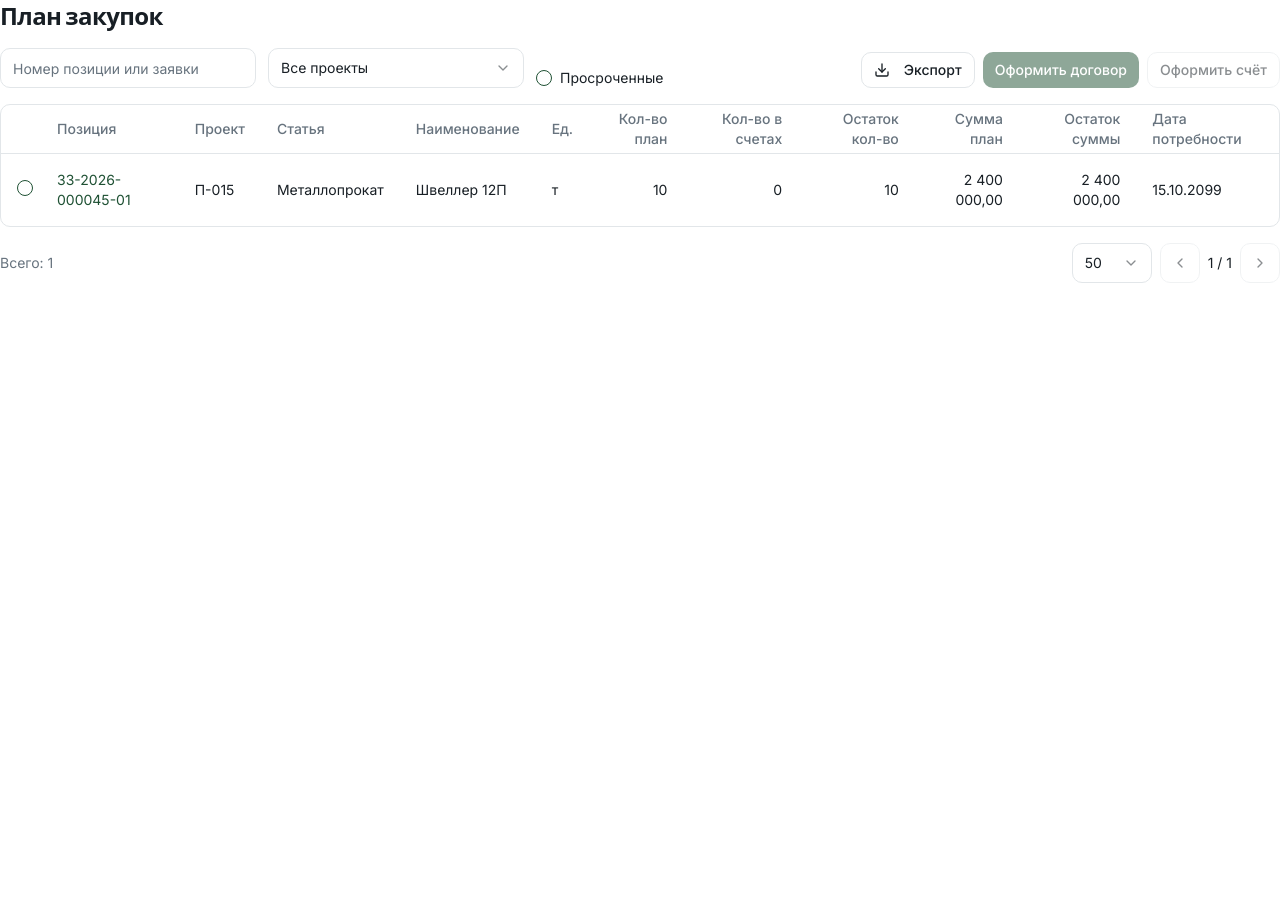
Scenario: PlanPage › мастер: проверка сервером и количество не больше остатка
Click the checkbox named "Отметить ЗЗ-2026-000045-01": (25, 188) [17,180,33,196]
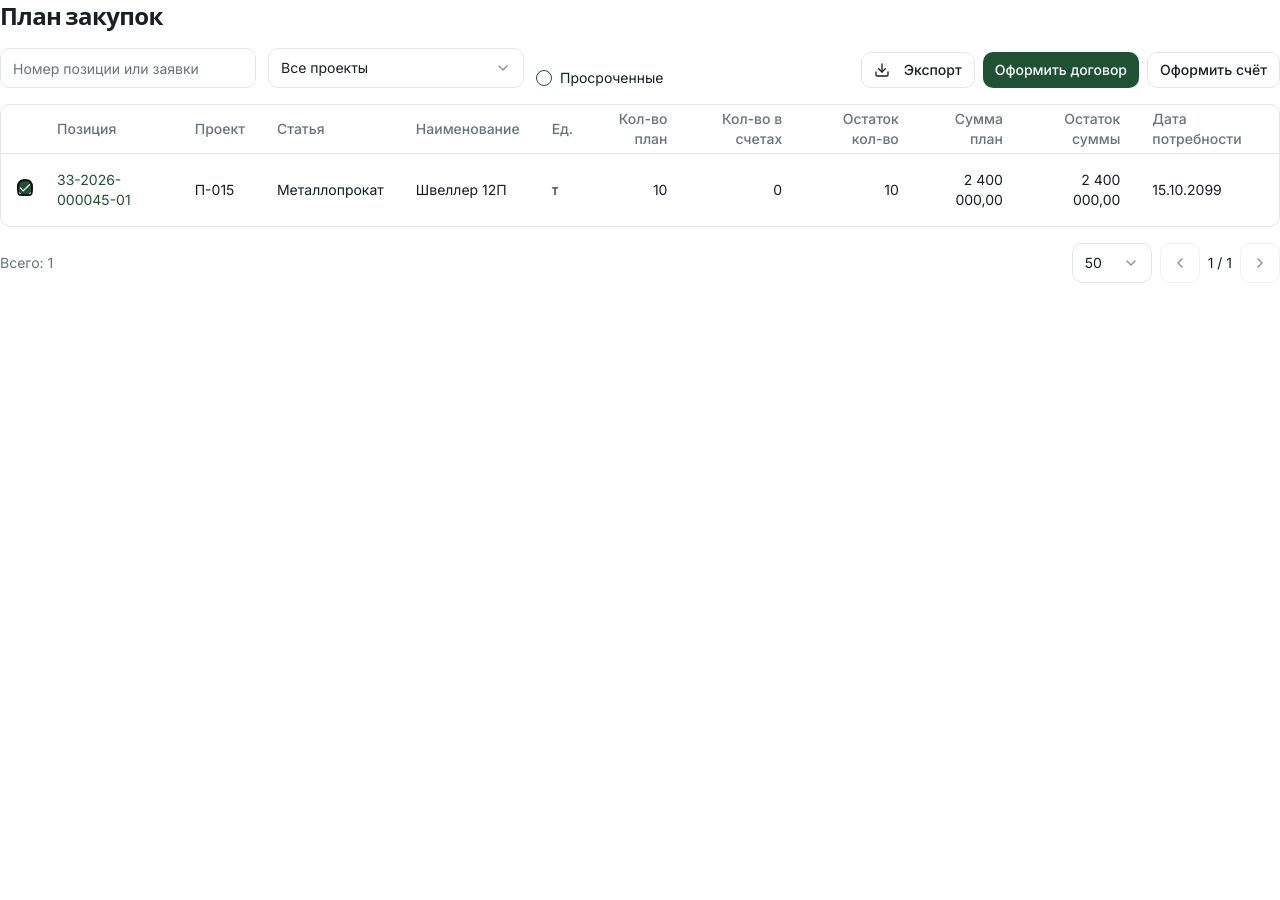
Click the button "Оформить договор": (1061, 70) [983,52,1139,88]
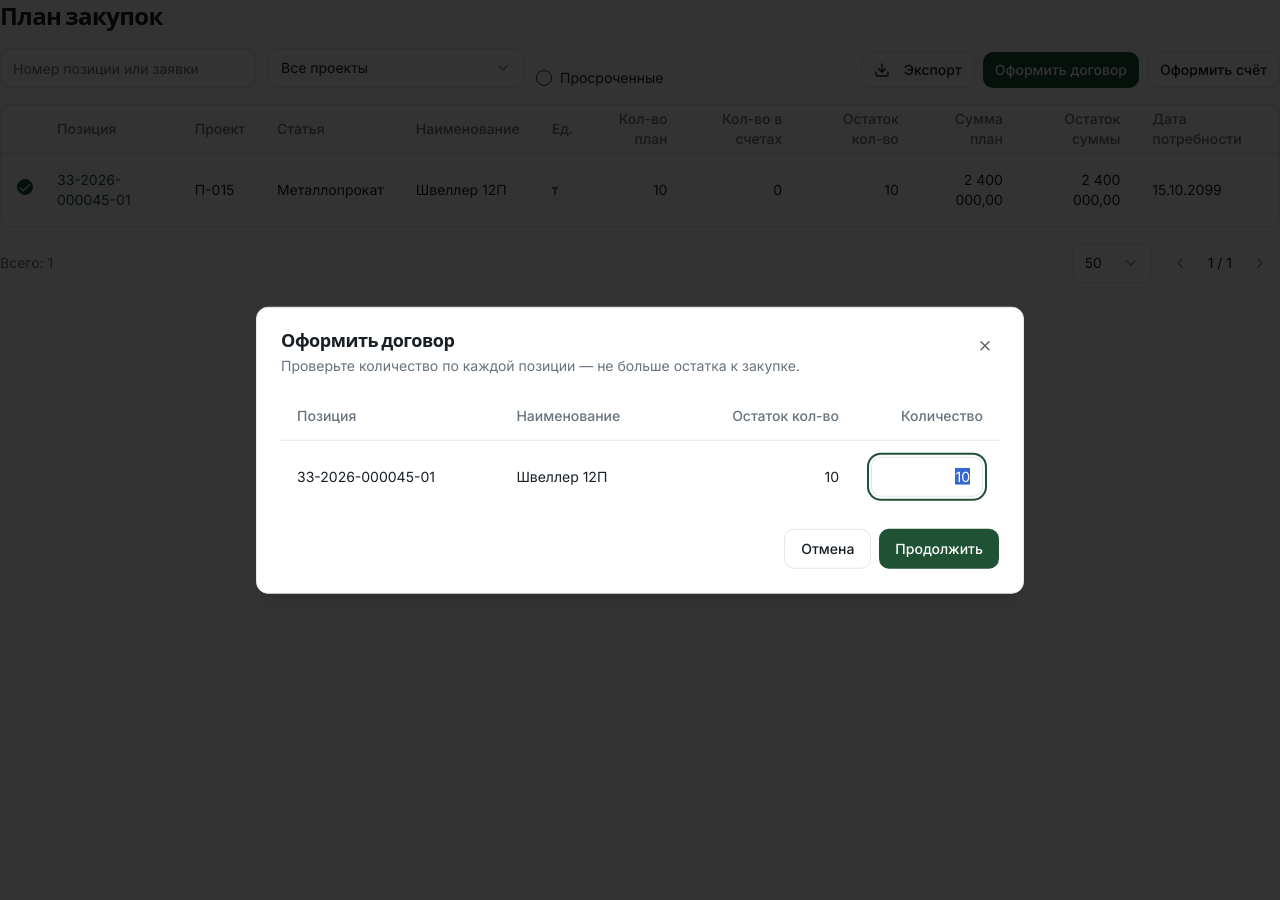
Expected: the field named "Количество ЗЗ-2026-000045-01" holds "10"
Clear the field named "Количество ЗЗ-2026-000045-01": (927, 476) [871,456,983,496]
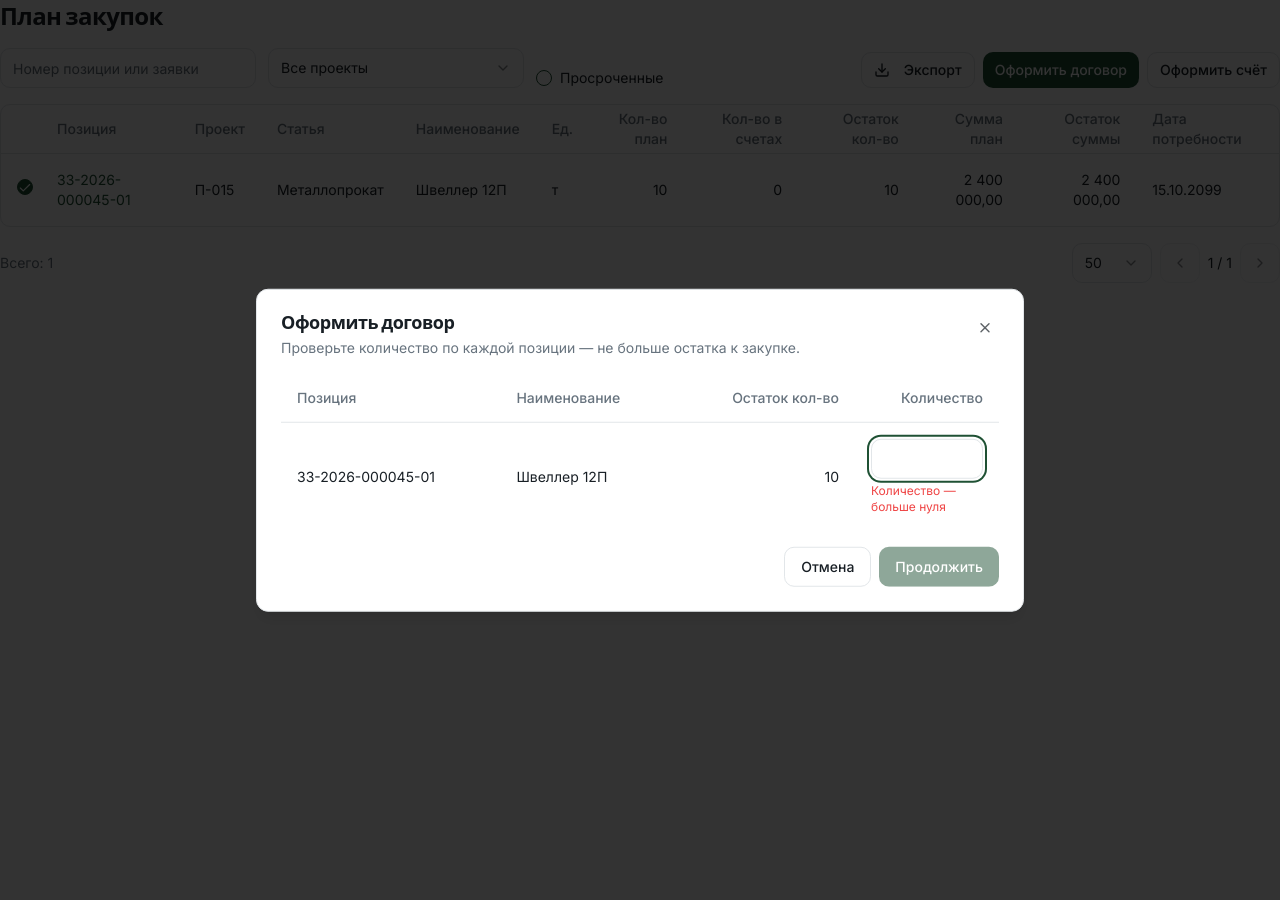
In the field named "Количество ЗЗ-2026-000045-01": (927, 458) [871,438,983,478], type "12"
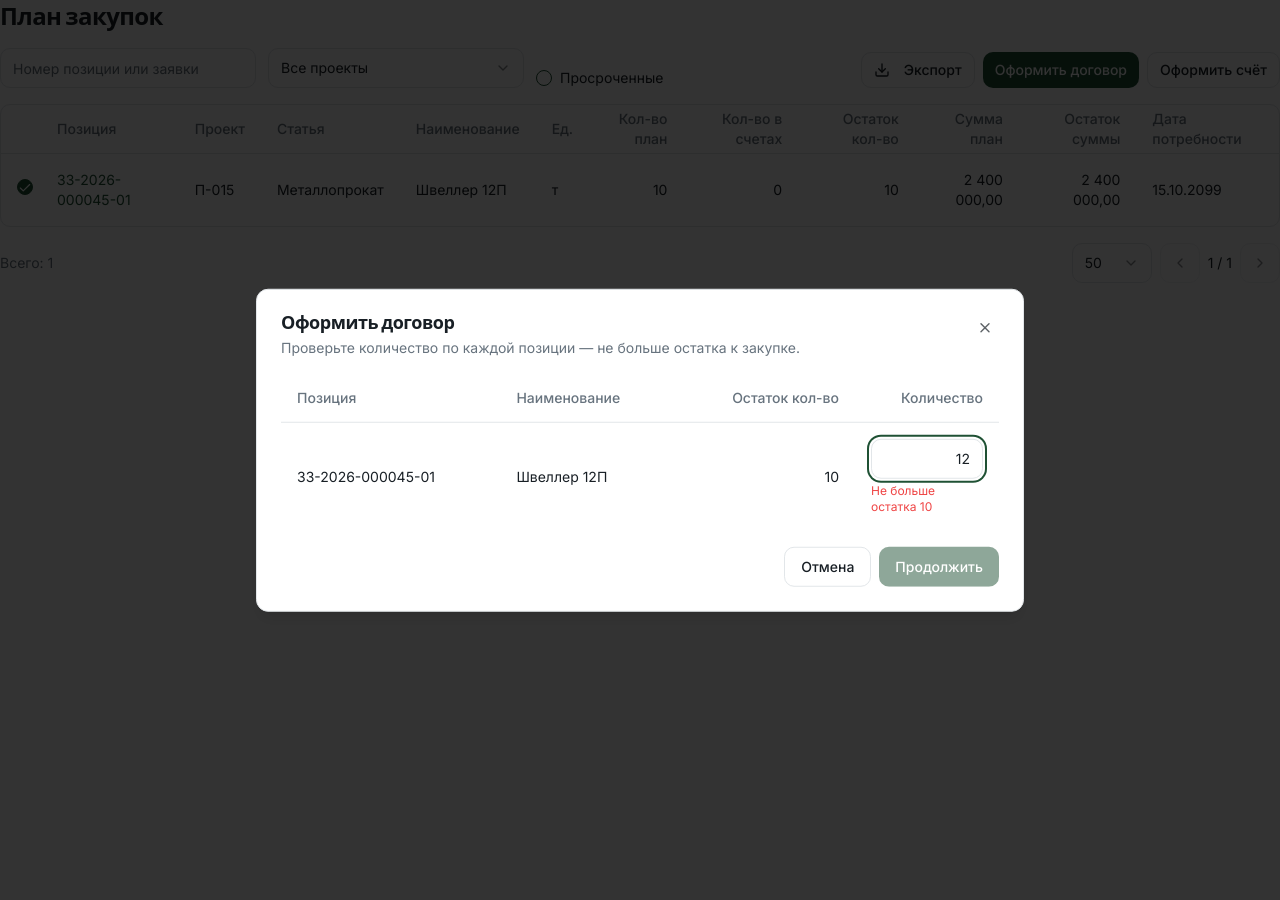
Expected: the text "Не больше остатка 10" is shown, [871,482,935,513]
